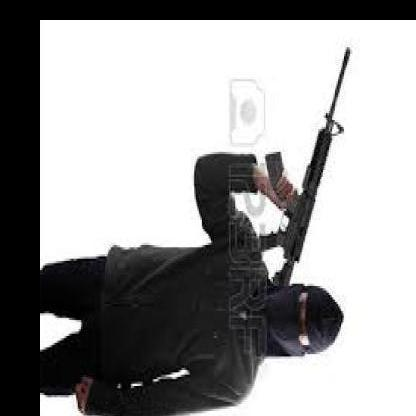larga: (256, 46, 352, 283)
